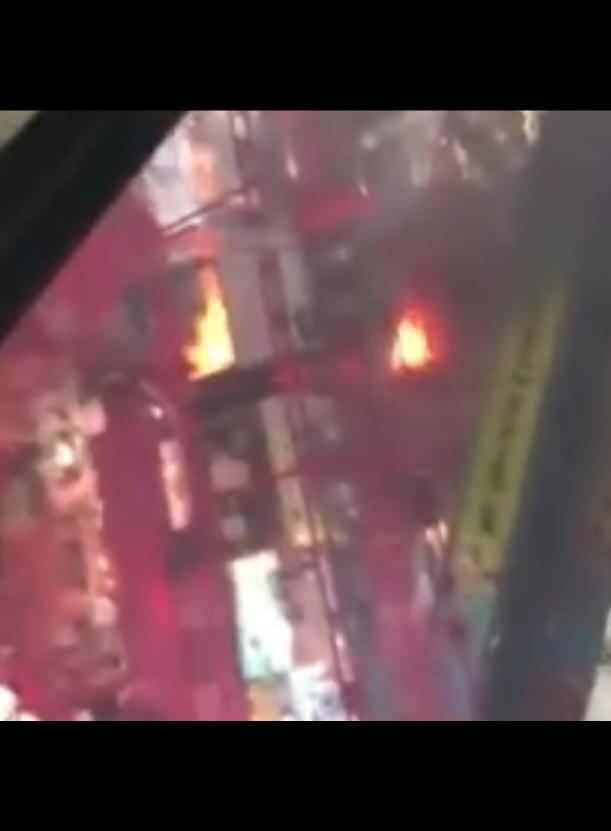fire: (384, 294, 477, 428)
